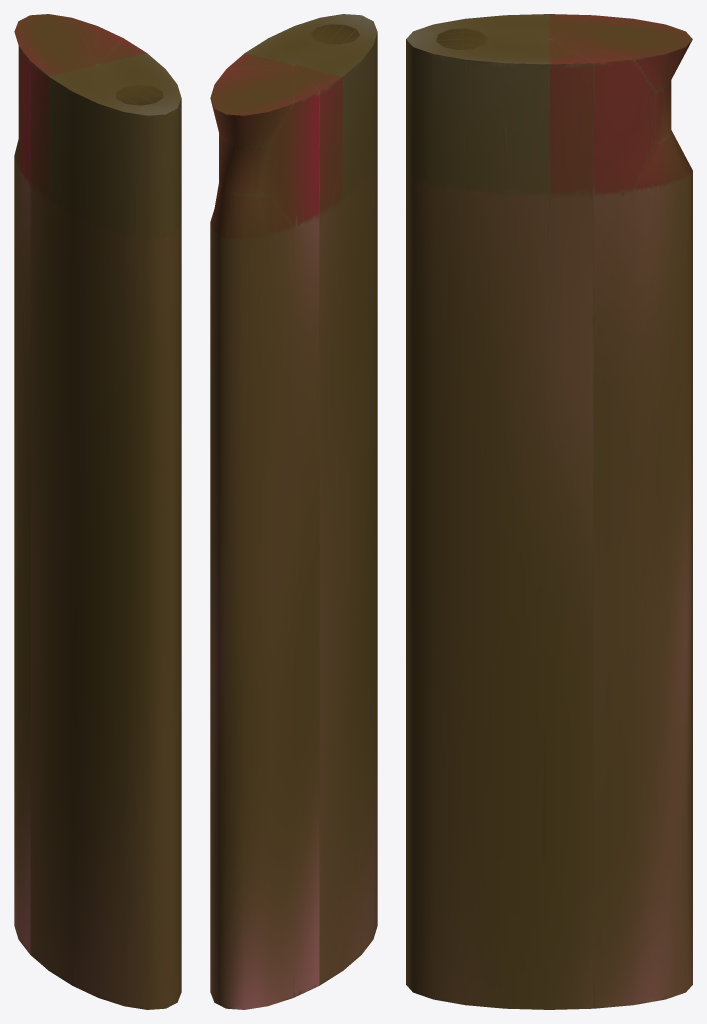
Rendered from raitapink.fbx.
The picture shows the model from 3 angles, left to right: view 1: azimuth 30°, elevation 25°; view 2: azimuth 150°, elevation 25°; view 3: azimuth 270°, elevation 25°; orthographic projection. The views are drawn at different scales.
Parts seen in each view (by area): view 1: pCylinder1; view 2: pCylinder1; view 3: pCylinder1.
Part boxes in pixels (box(x1,y1,x2,y2)): pCylinder1: box(14, 14, 181, 1009); pCylinder1: box(210, 14, 377, 1009); pCylinder1: box(406, 14, 692, 1009).
Size of the model in its own units: 0.431 by 3.76 by 1.03.
1 material, 1 textured.
